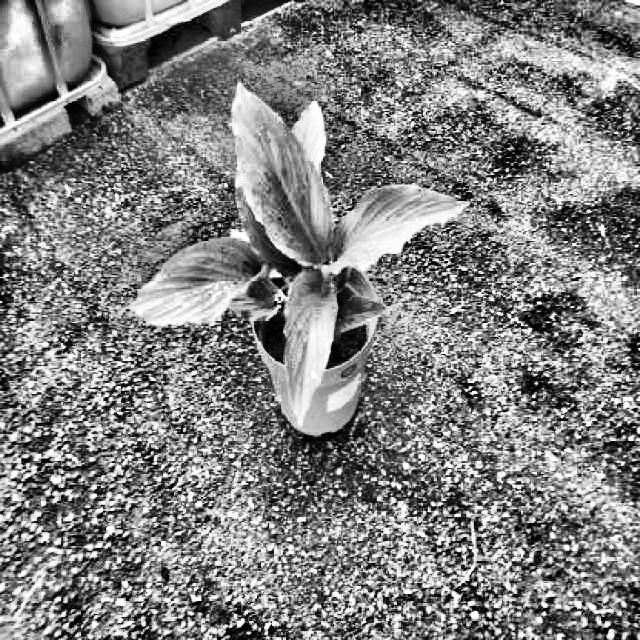plants: (131, 83, 471, 426)
